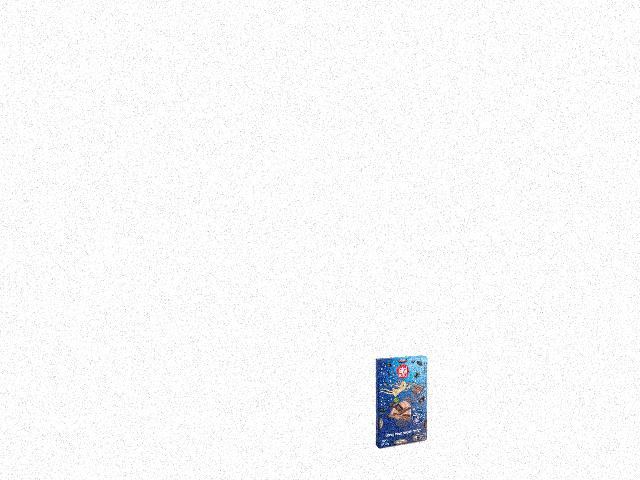chocolate: (369, 353, 434, 448)
